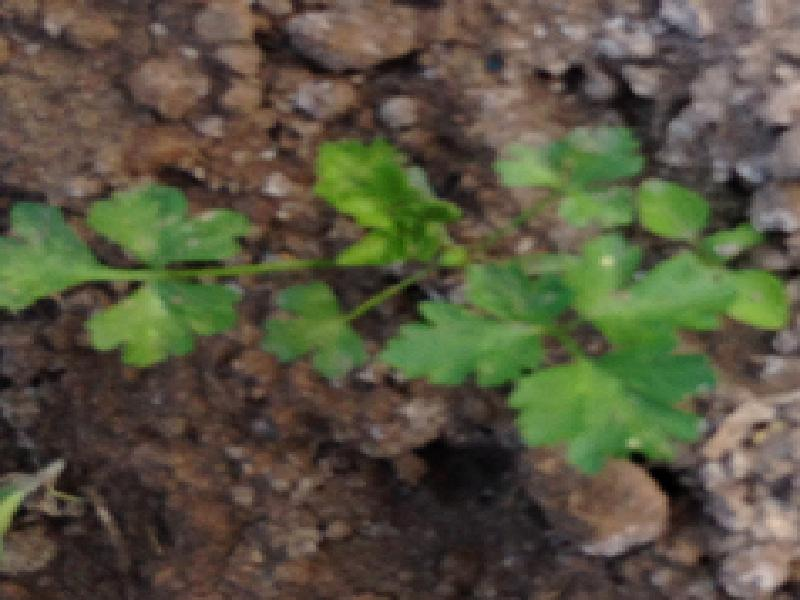radish: (152, 5, 640, 600)
